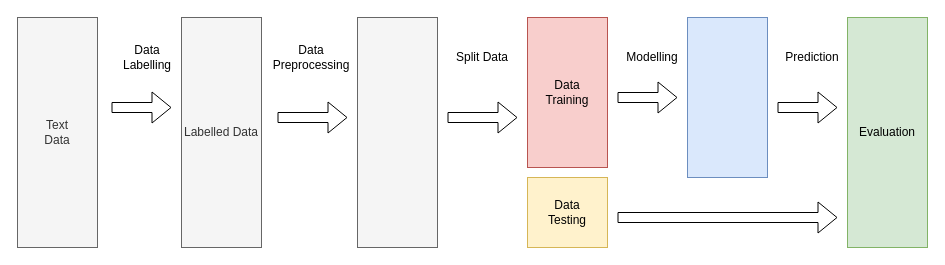
Some shapes in this 945 by 265 pixel diagram are drawn without their labels. Each missing label, with the centre of its shape:
ML Algorithm: point (727, 97)
Processed Data: point (397, 132)
